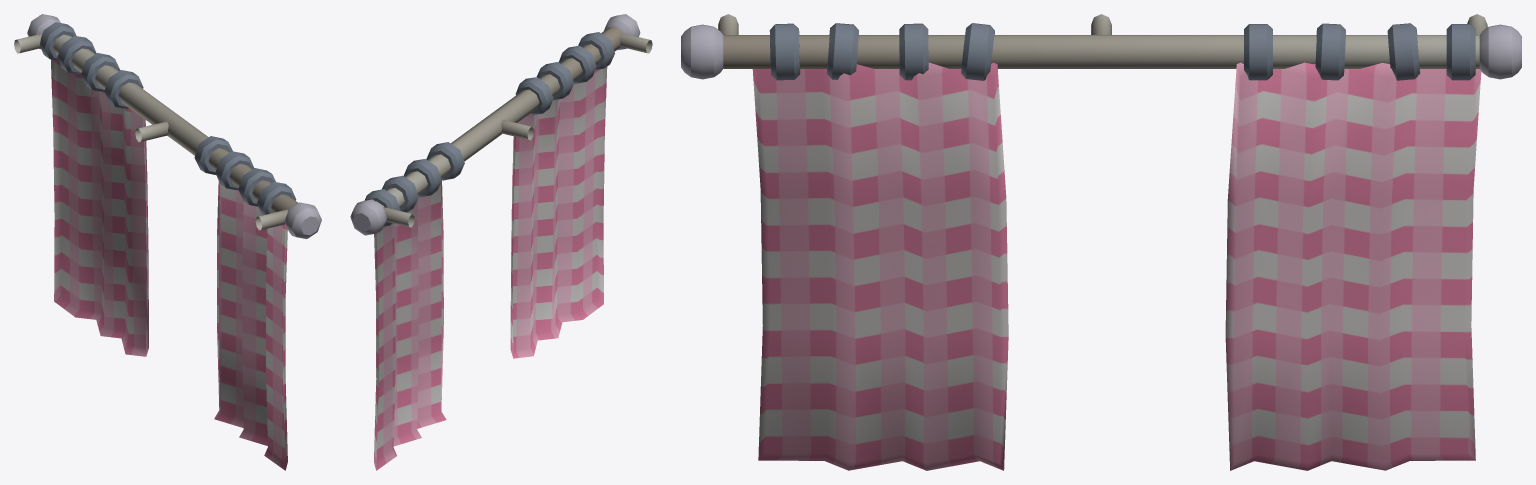
The model's file is Curtains_Long_2_B_A_001.glb.
3 views of the same model, side by side, from view 1: azimuth 30°, elevation 25°; view 2: azimuth 150°, elevation 25°; view 3: azimuth 270°, elevation 25° (orthographic). The views are drawn at different scales.
Parts seen in each view (by area): view 1: Curtains_Long_2_B_A.001; view 2: Curtains_Long_2_B_A.001; view 3: Curtains_Long_2_B_A.001.
Boxes of the visible parts, bbox=[...] form: Curtains_Long_2_B_A.001: bbox=[14, 14, 321, 470]; Curtains_Long_2_B_A.001: bbox=[350, 14, 652, 470]; Curtains_Long_2_B_A.001: bbox=[681, 14, 1521, 470].
Size of the model in its own units: 0.2288 by 1.16 by 2.02.
2 materials, 2 textured.
